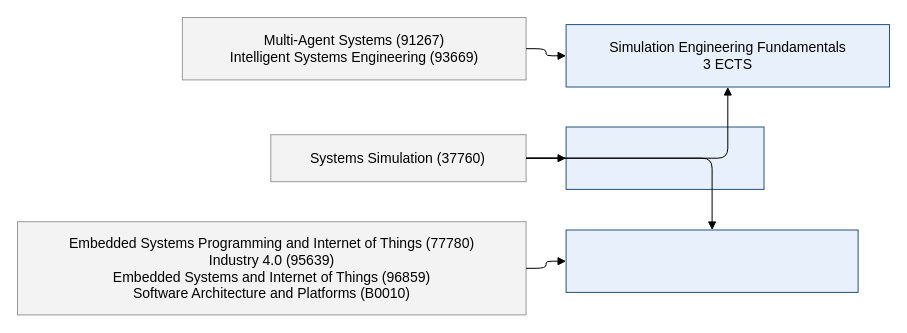
This 907x333 diagram has some shape labels left out. Here are the shapes that lost their labels. From the top down, the centre of each, then its label:
At point (664, 157): "Systems Simulation 3 ECTS".
At point (711, 260): "Advanced Simulation Engineering 3 ECTS".
